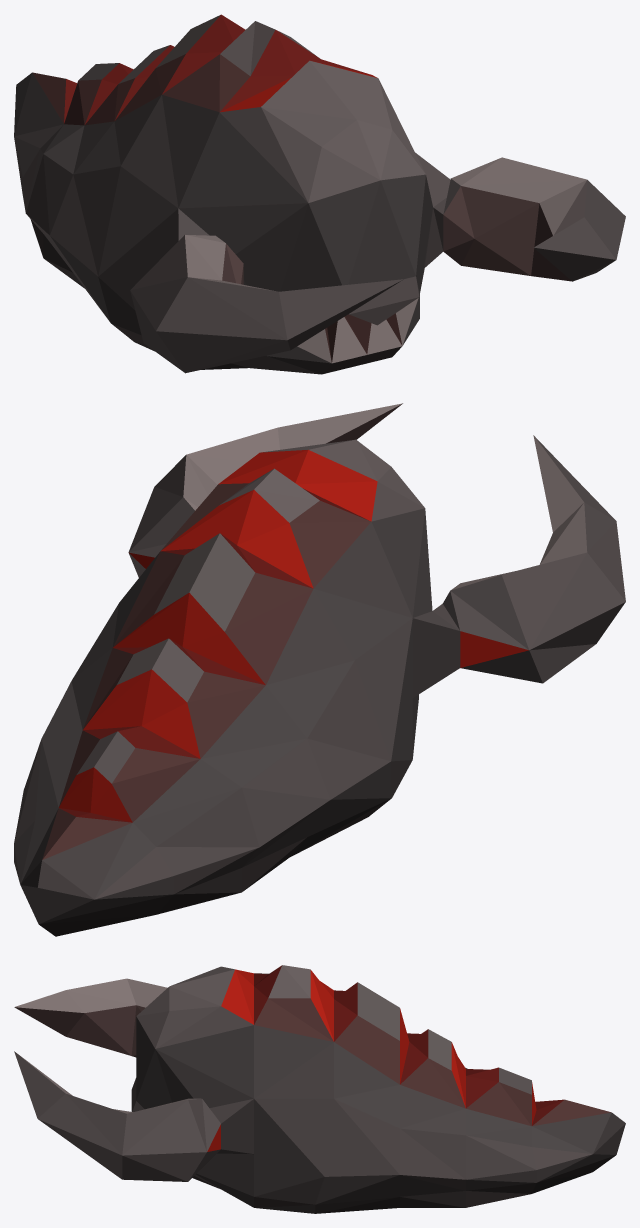
The picture shows the model from 3 angles, top to bottom: view 1: azimuth 30°, elevation 25°; view 2: azimuth 150°, elevation 25°; view 3: azimuth 270°, elevation 25°; orthographic projection. The views are drawn at different scales.
Size of the model in its own units: 80 by 49 by 130.
Materials: 2 (2 with a texture image).
